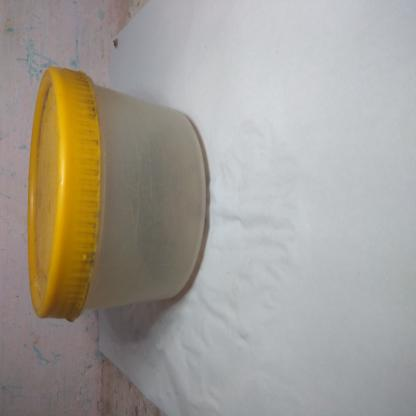bottle: (49, 137, 245, 384)
